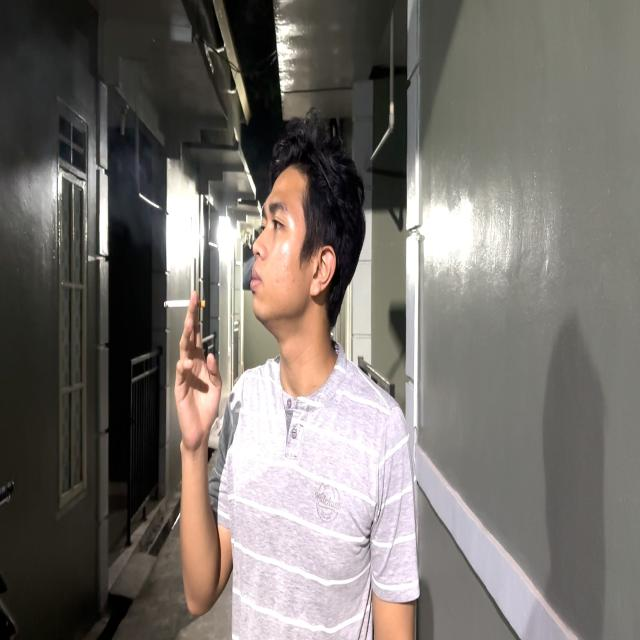cigarette: (158, 293, 214, 315)
smoking: (151, 102, 375, 624)
